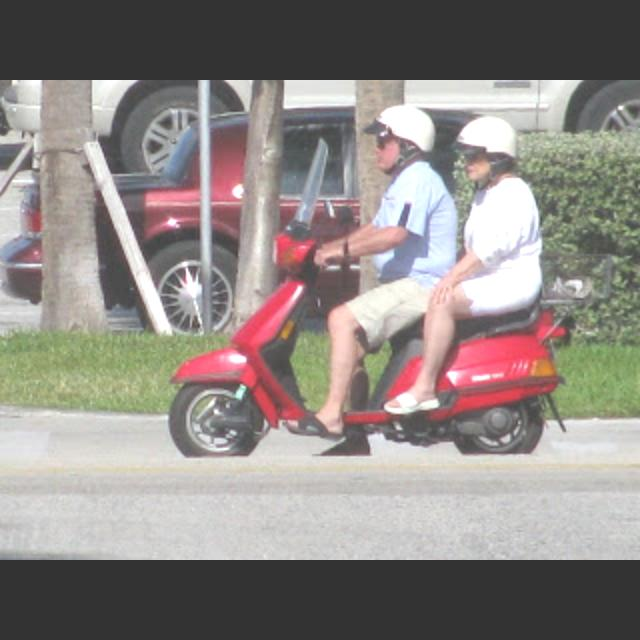With Helmet: (358, 96, 438, 176)
